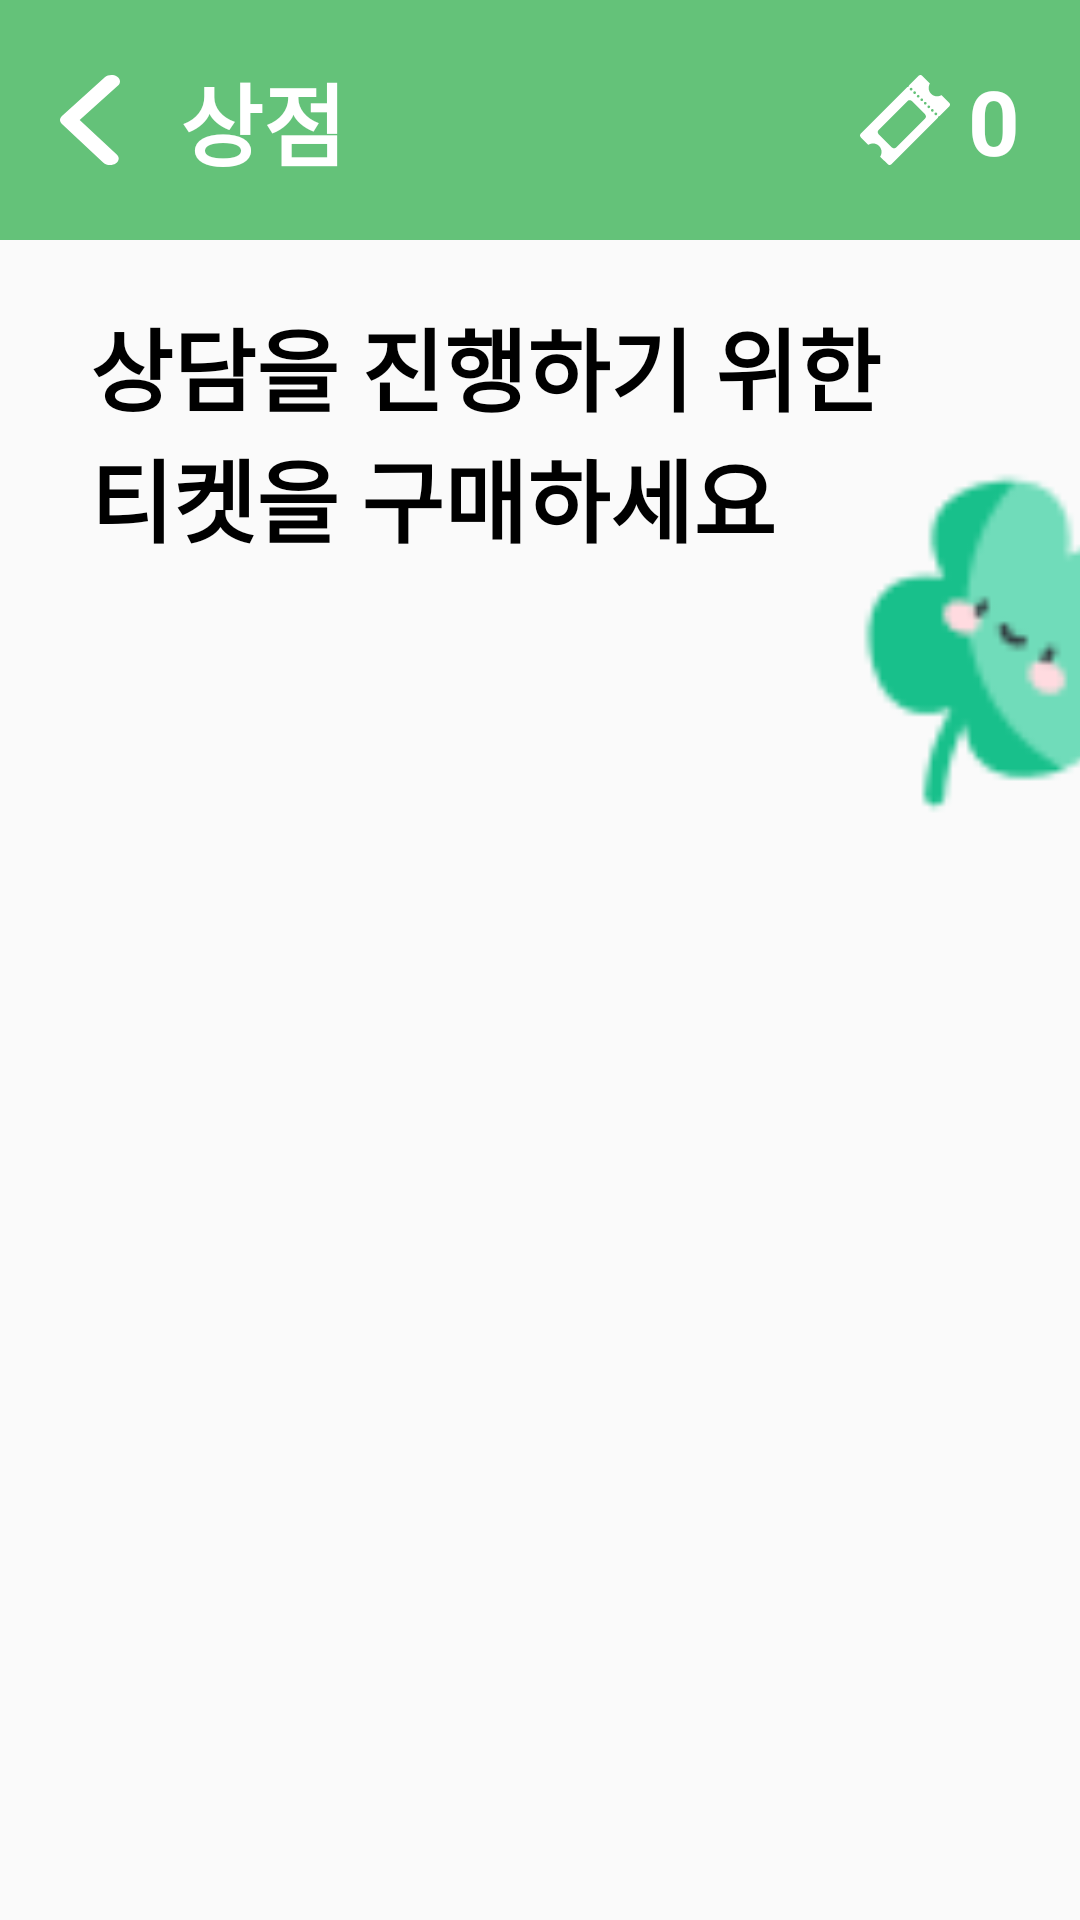

Where to tap for icons on this 1080px×1920px app screen, as (x=x, y=y):
back: (x=90, y=120)
ticket: (x=905, y=120)
